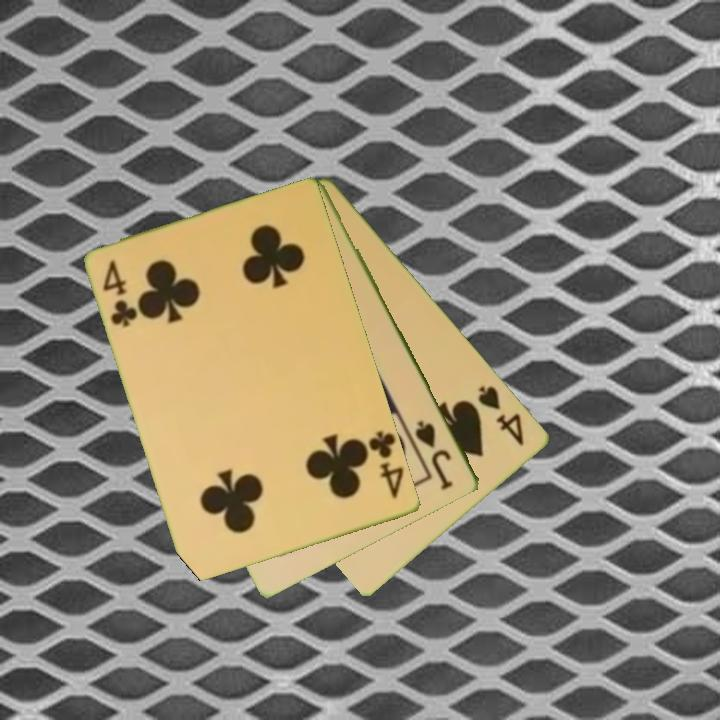4c: (365, 427, 407, 502), (99, 256, 141, 331)
4s: (475, 381, 528, 449)
Js: (412, 417, 457, 492)
